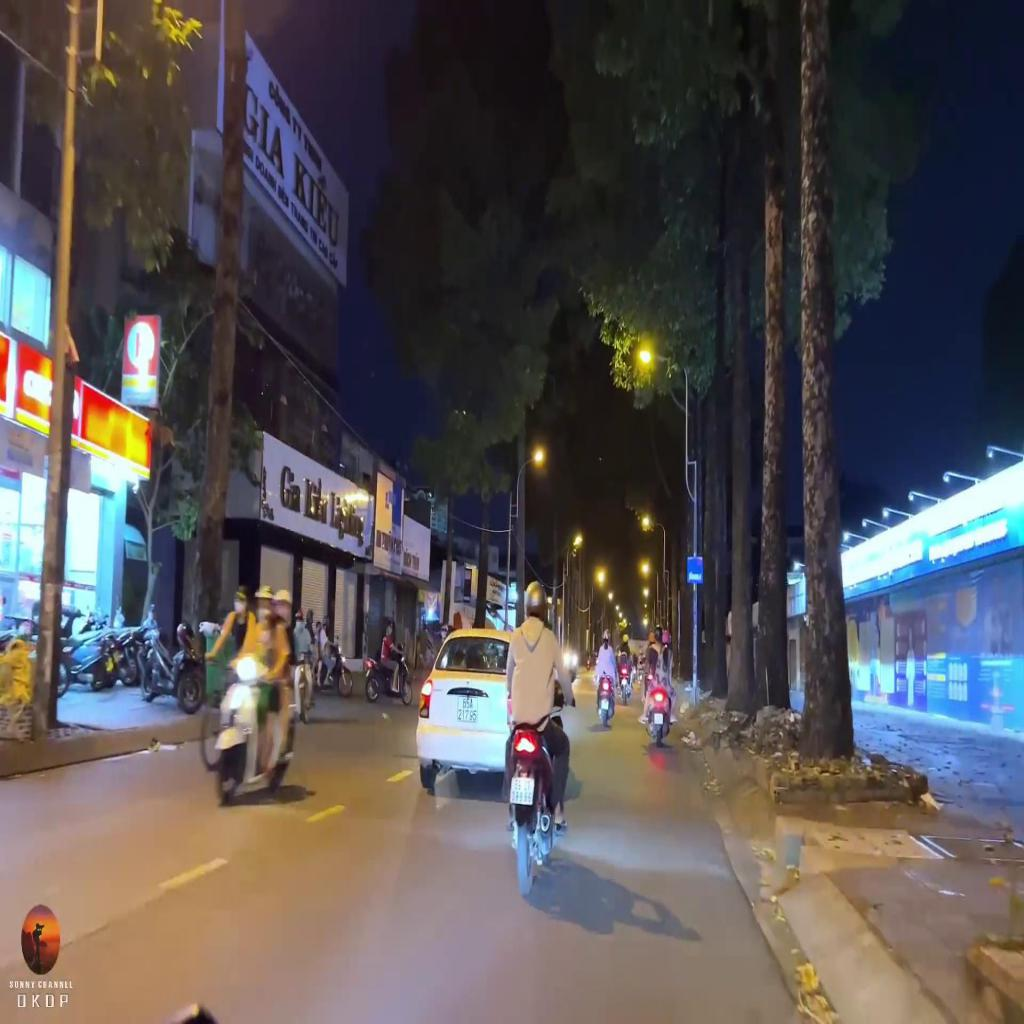khac: (688, 558, 702, 584)
